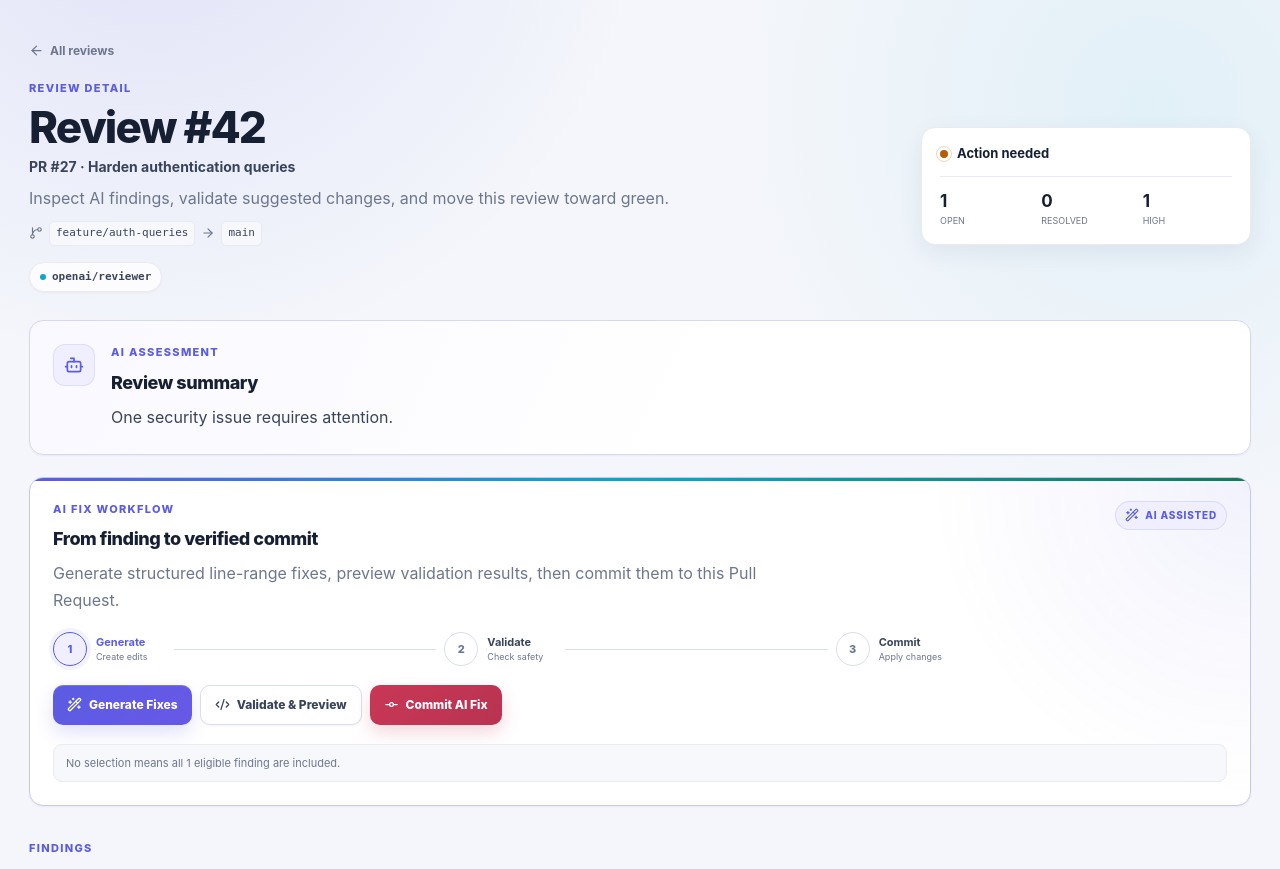
ReviewDetail › shows the loader on Validate & Preview while fixes are being validated
Expected: the heading "Review #42" is shown, [29,100,265,154]
Click the button "Validate & Preview" at (281, 705), box [200,685,362,725]
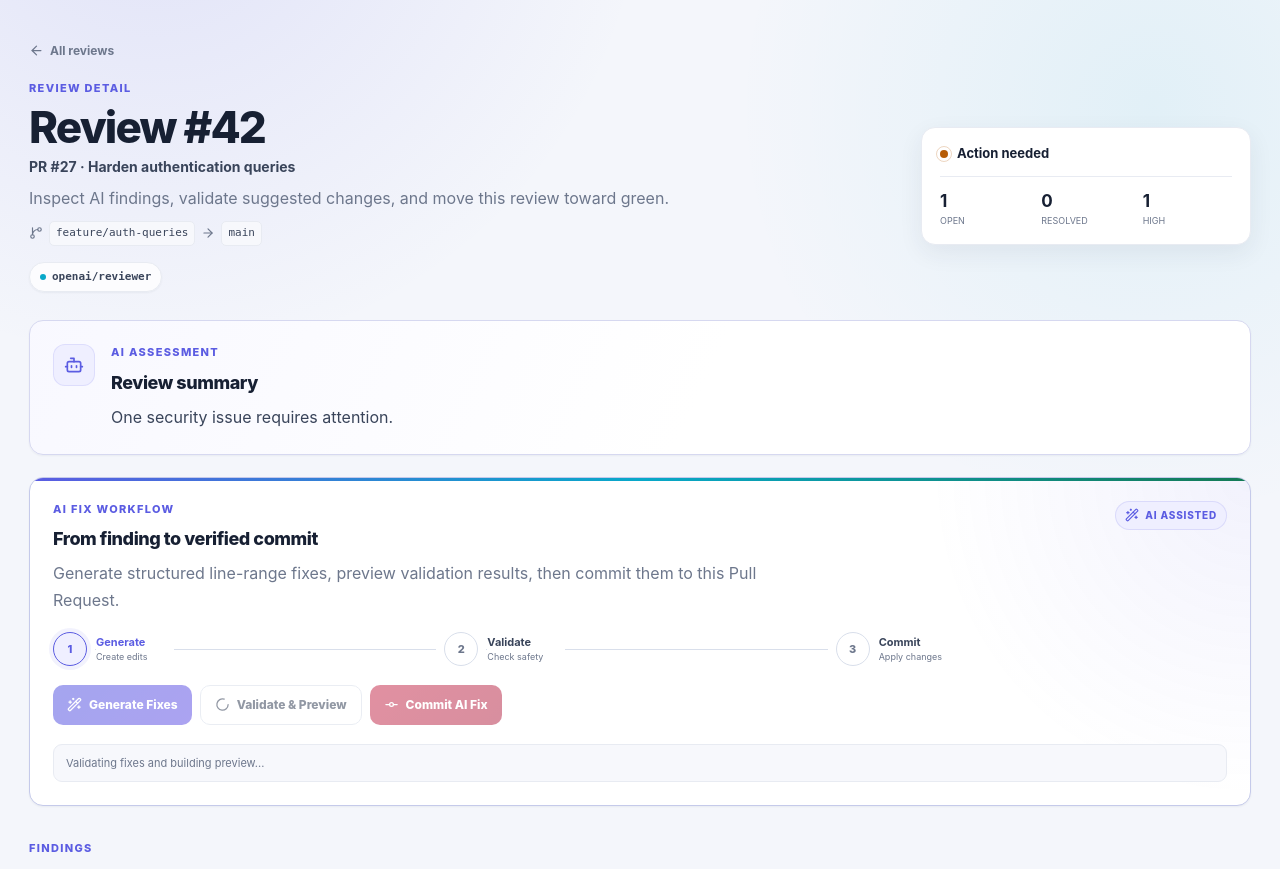
Result: the icon with class "spin" is shown at [215,698,230,712]
